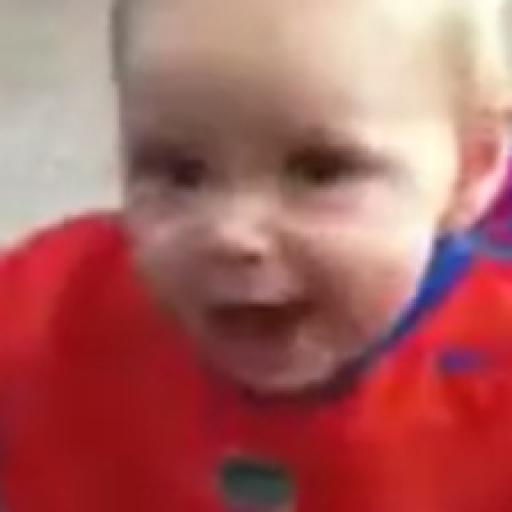Autism: (0, 0, 512, 481)
